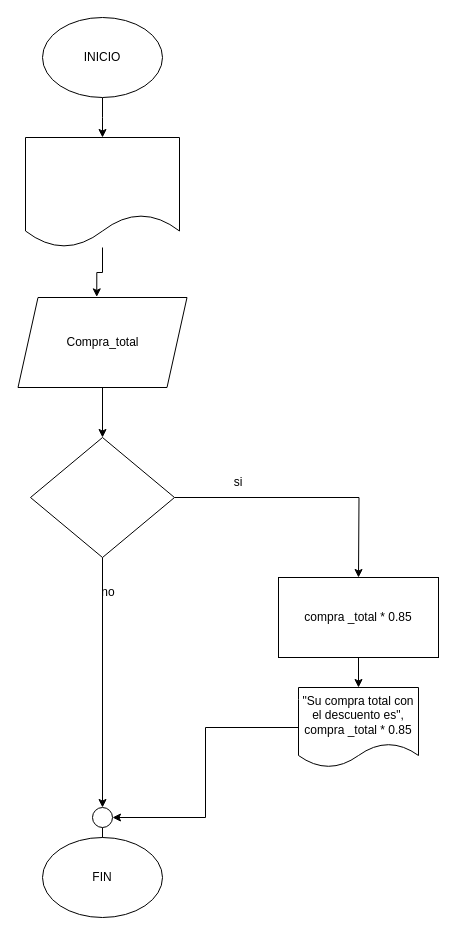
This 456x935 diagram has some shape labels left out. Here are the shapes that lost their labels. From the top down, the box of each, then its label:
(24, 136, 180, 248): "Ingrese compra total"
(30, 436, 174, 558): compra_total >$5000
